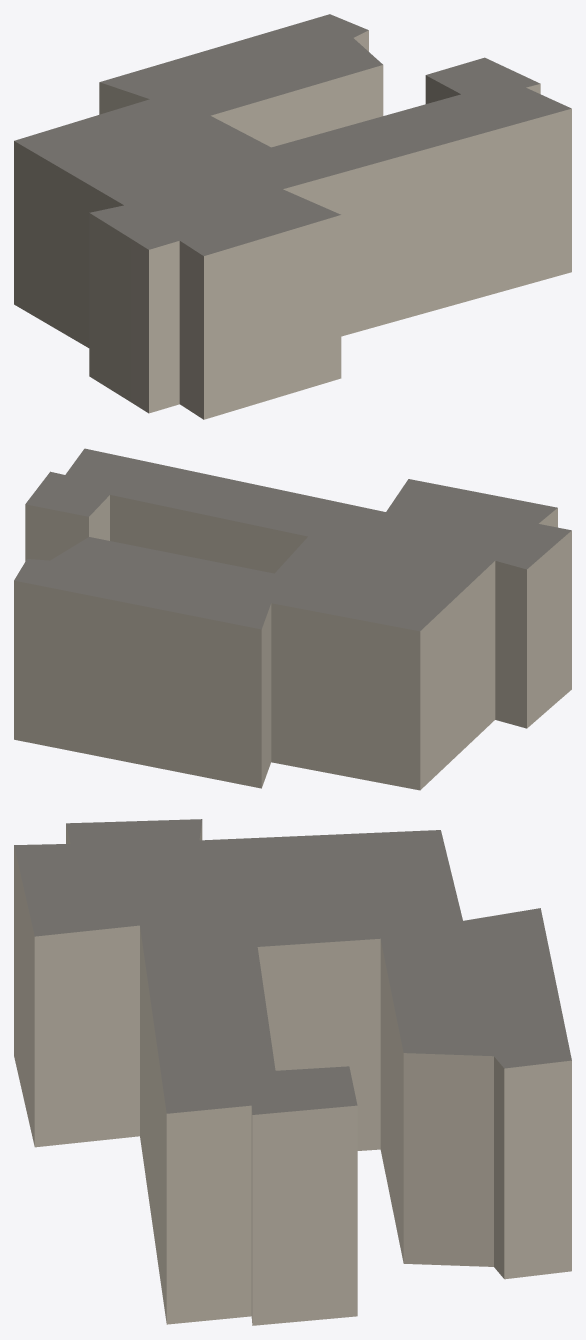
The picture shows the model from 3 angles, top to bottom: view 1: azimuth 30°, elevation 25°; view 2: azimuth 150°, elevation 25°; view 3: azimuth 270°, elevation 25°; orthographic projection. The views are drawn at different scales.
Parts seen in each view (by area): view 1: HP-w1512914147; view 2: HP-w1512914147; view 3: HP-w1512914147.
Boxes of the visible parts, x1,y1,x2,y2 form: HP-w1512914147: [14, 14, 571, 419]; HP-w1512914147: [14, 448, 571, 790]; HP-w1512914147: [14, 819, 571, 1325].
Size of the model in its own units: 54.2 by 18 by 43.19.
